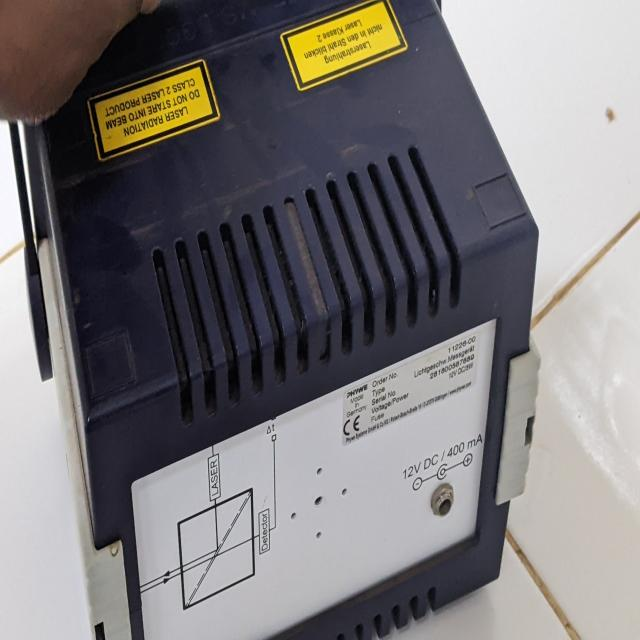Power Supply of Speed of Light Demo: (13, 69, 560, 638)
